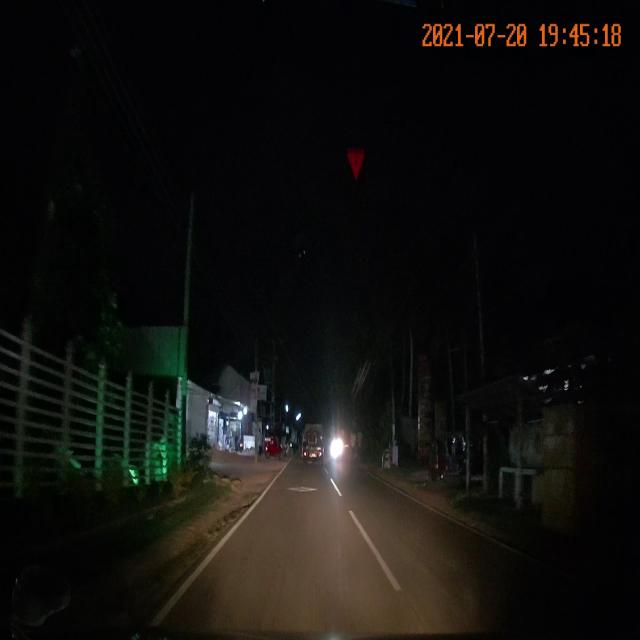diamond: (256, 475, 348, 500)
